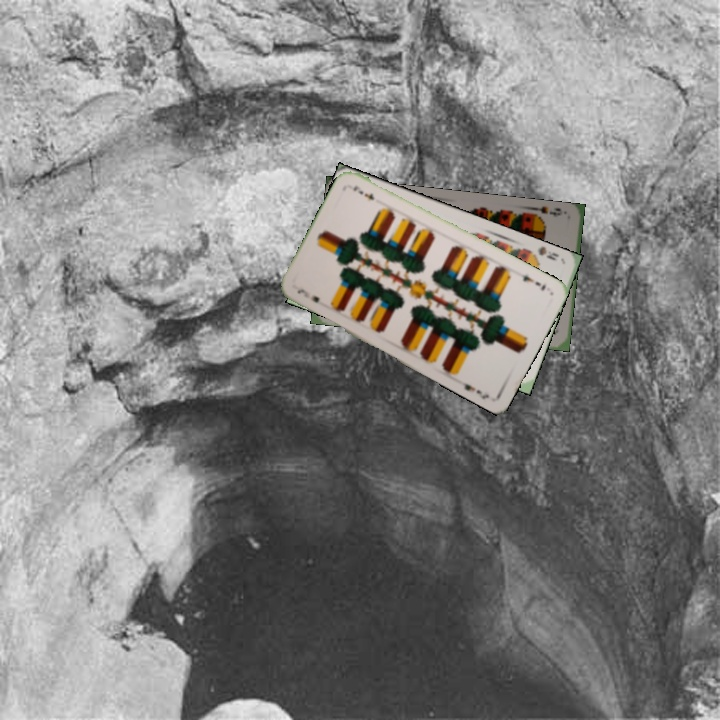E7: (516, 269, 548, 293), (293, 285, 322, 306)
S9: (527, 203, 568, 222), (523, 243, 561, 263)
